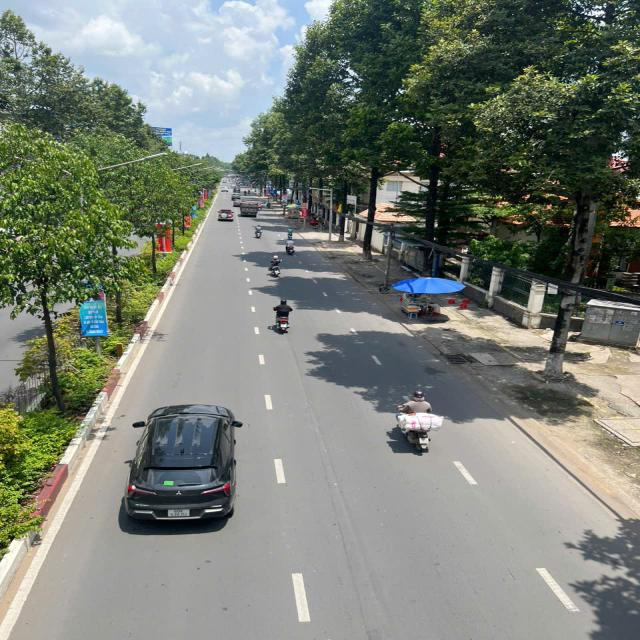ben: (238, 194, 263, 219)
car: (123, 403, 243, 530), (215, 205, 238, 225)
motobyte: (394, 387, 442, 460), (274, 294, 296, 335), (266, 253, 286, 281), (282, 235, 300, 259), (255, 218, 266, 242)
